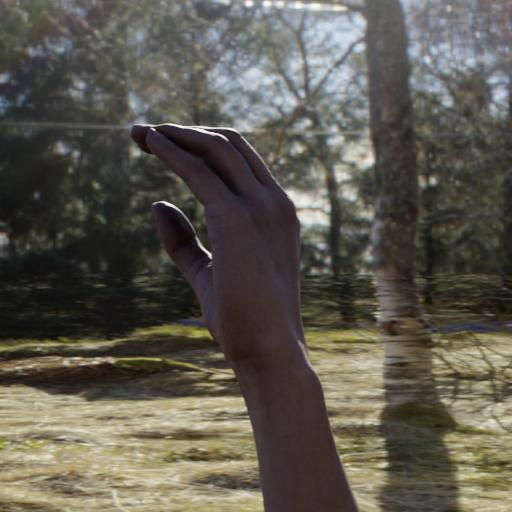C: (119, 104, 358, 368)
